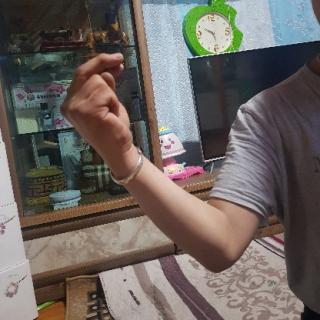ZAY: (58, 50, 156, 164)
